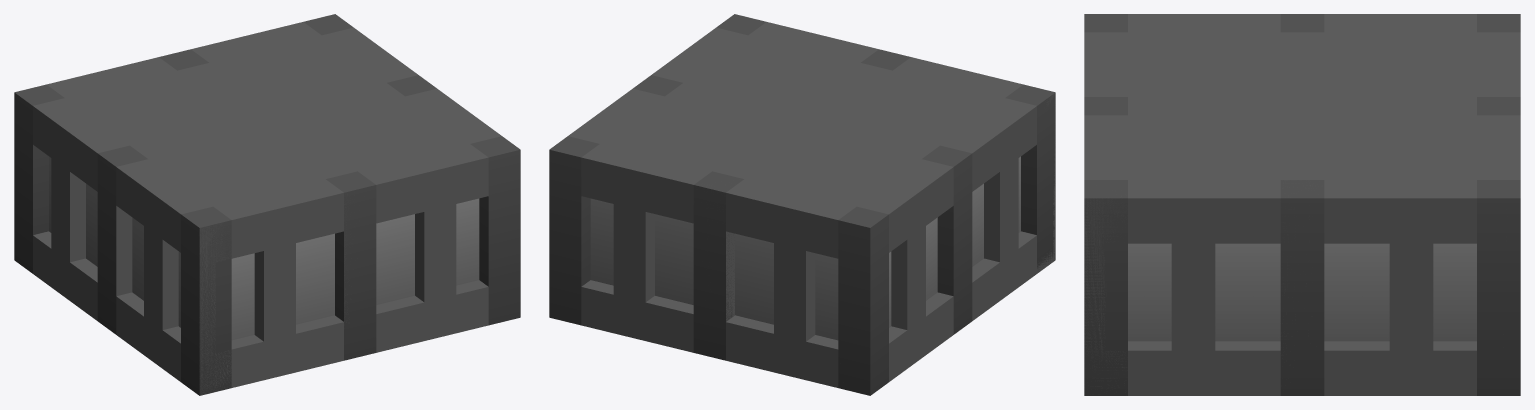
Rendered from skyscraper_floor.glb.
3 views of the same model, side by side, from view 1: azimuth 30°, elevation 25°; view 2: azimuth 150°, elevation 25°; view 3: azimuth 270°, elevation 25° (orthographic). The views are drawn at different scales.
Parts seen in each view (by area): view 1: base_floor.001, floor_fundation; view 2: base_floor.001, floor_fundation; view 3: base_floor.001, floor_fundation.
Part boxes in pixels (<box>): base_floor.001: <box>33,22,501,394</box>; floor_fundation: <box>14,14,520,395</box>; base_floor.001: <box>568,22,1055,387</box>; floor_fundation: <box>549,14,1055,395</box>; base_floor.001: <box>1084,14,1520,395</box>; floor_fundation: <box>1084,14,1520,395</box>.
Size of the model in its own units: 2 by 1 by 2.
Materials: 1 (1 with a texture image).
